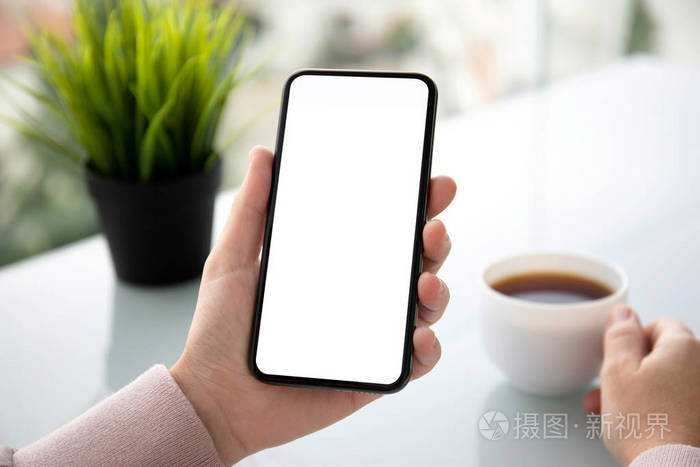reading: (169, 64, 460, 461)
